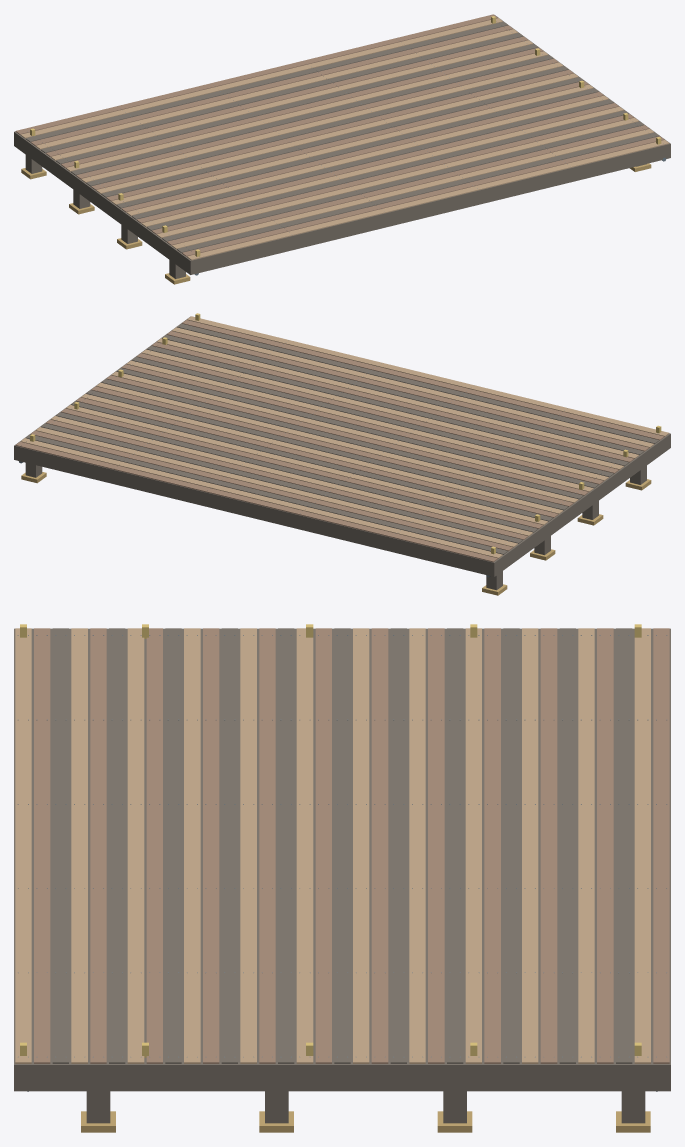
Rendered from muelle.glb.
The picture shows the model from 3 angles, top to bottom: view 1: azimuth 30°, elevation 25°; view 2: azimuth 150°, elevation 25°; view 3: azimuth 270°, elevation 25°; orthographic projection. The views are drawn at different scales.
Visible parts, largest first — view 1: muelle; view 2: muelle; view 3: muelle.
Boxes of the visible parts, box(x1,y1,x2,y2) form: muelle: box(14, 14, 670, 284); muelle: box(14, 313, 670, 595); muelle: box(14, 624, 670, 1132).
Bounding box in the file's own units: 22 × 1.91 × 14.
